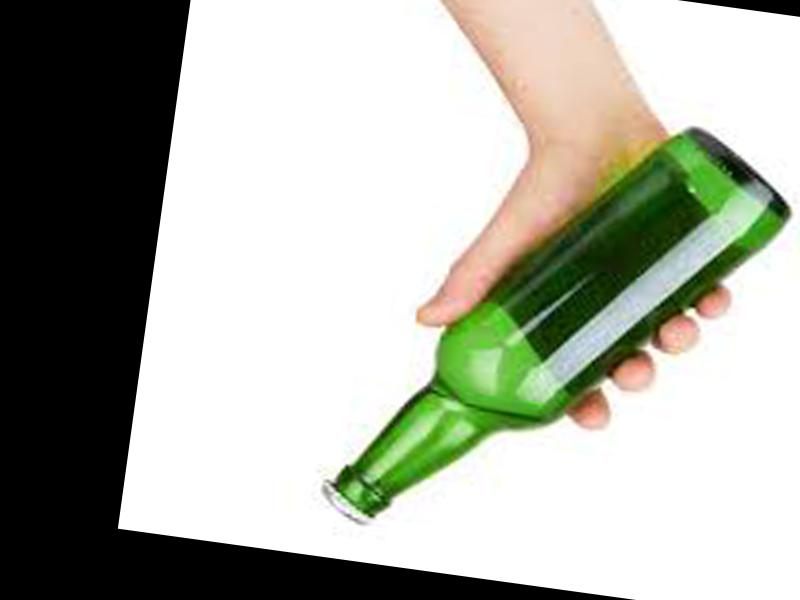Beer: (318, 76, 797, 570)
